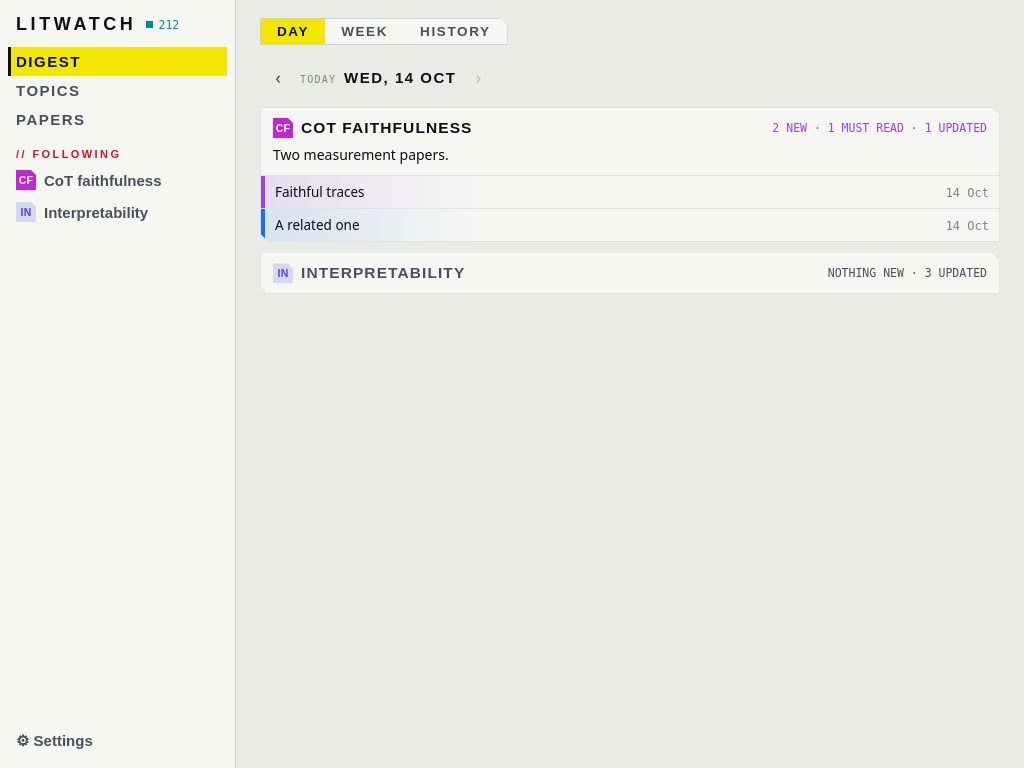
the Digest › shows a quiet digest's updated papers under its one line, and its card's count
The image size is (1024, 768).
Expected: the text "2 new · 1 must read · 1 updated" is shown, [772,121,987,135]
Click the text "Nothing new · 3 updated": (907, 273) [828,266,987,280]
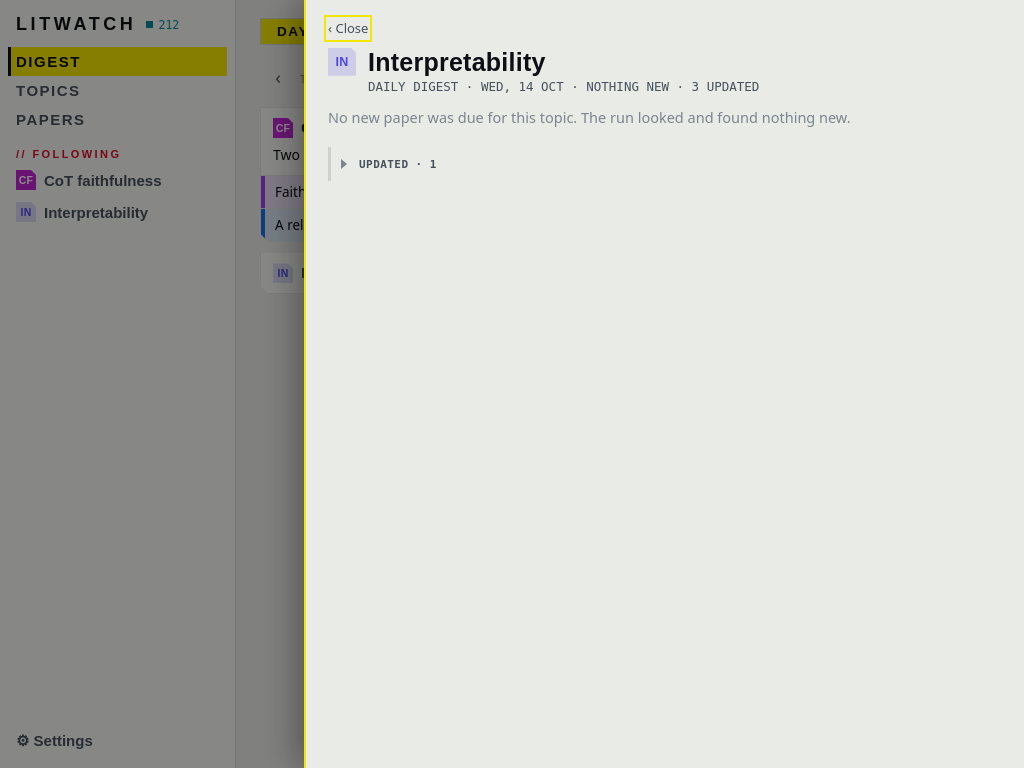
Expected: the text "No new paper was due" is shown, [328,107,851,127]
Click the button "Updated · 1": (384, 164) [328,147,1000,181]
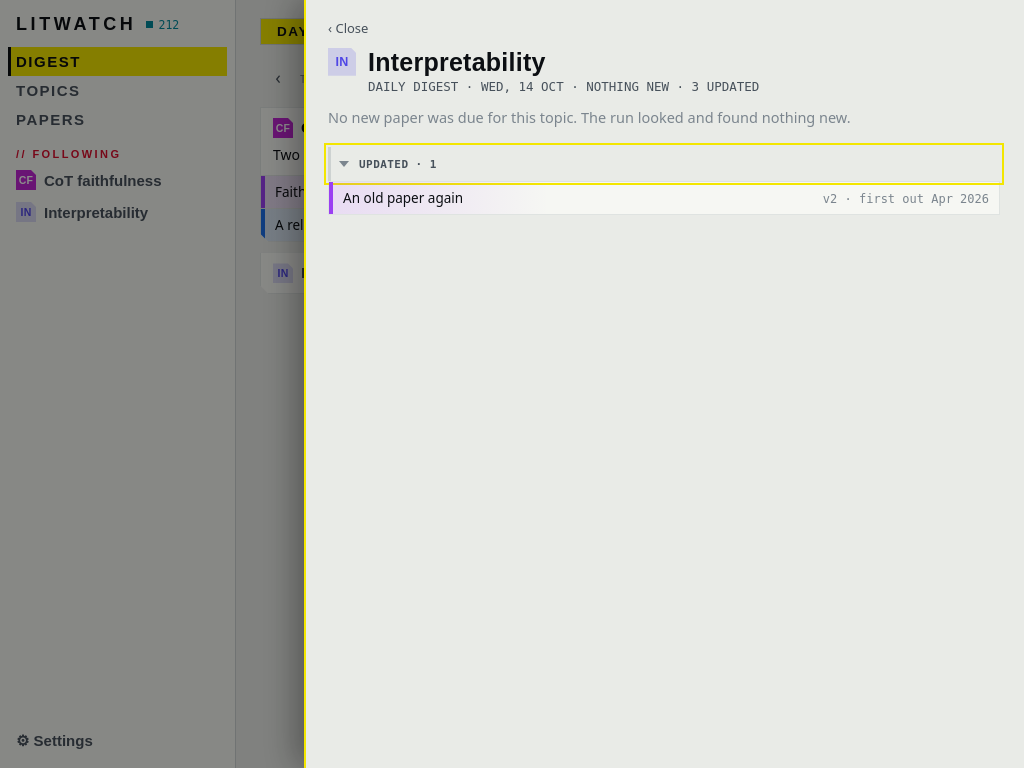
Expected: the link "An old paper again v2 · first out Apr 2026" is shown, [329,182,999,214]
